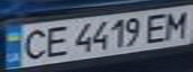1: (109, 16, 130, 48)
4: (72, 20, 96, 54), (90, 18, 112, 52)
9: (121, 15, 148, 47)
C: (15, 26, 51, 61)
E: (39, 22, 72, 58), (139, 11, 172, 44)
M: (160, 7, 193, 39)
